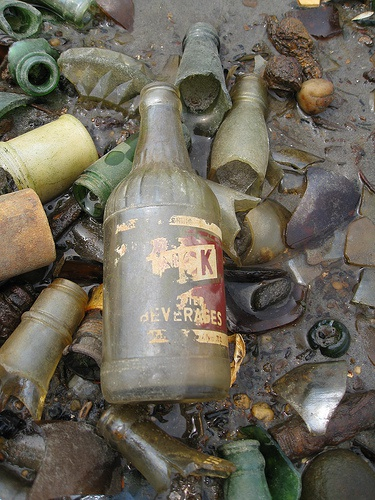emptybottle: (102, 82, 230, 400)
